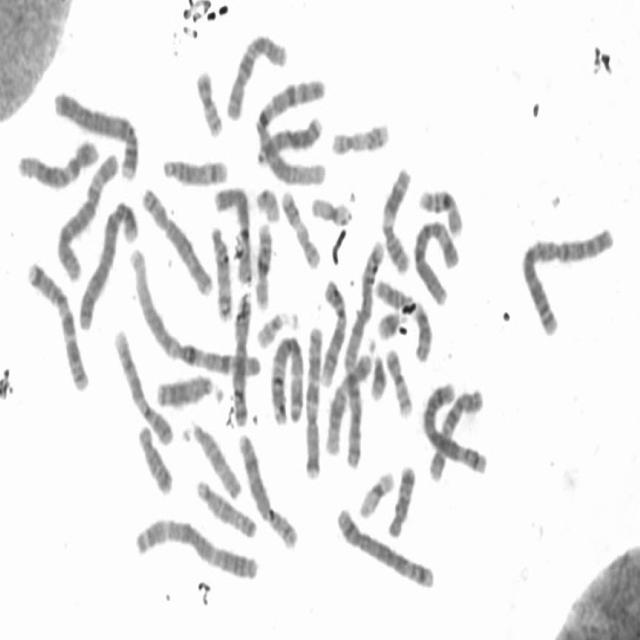A1: (126, 241, 263, 381), (251, 69, 327, 188)
A2: (518, 216, 618, 338), (341, 234, 385, 470)
A3: (131, 510, 260, 583), (266, 328, 306, 426)
B4: (49, 83, 141, 182), (76, 192, 140, 332)
B5: (332, 501, 437, 592), (422, 371, 491, 472)
C10: (222, 26, 289, 122), (423, 381, 486, 483)
C11: (372, 274, 434, 364), (377, 160, 415, 276)
C12: (322, 346, 372, 456), (15, 132, 102, 190)
C6: (52, 146, 119, 282), (410, 213, 462, 306)
C7: (22, 254, 92, 394), (302, 317, 326, 482)
C8: (138, 180, 215, 299), (235, 426, 300, 551)
C9: (110, 322, 174, 448), (317, 272, 349, 388)
D13: (253, 110, 325, 166), (152, 368, 226, 410)
D14: (206, 219, 234, 323), (159, 150, 231, 188)
D15: (180, 414, 244, 502), (193, 473, 259, 541)
E16: (415, 181, 466, 238), (251, 215, 275, 311)
E17: (278, 183, 322, 270), (327, 115, 391, 157)
E18: (134, 418, 175, 498), (385, 458, 418, 539)
F19: (355, 464, 396, 520), (308, 190, 354, 228)
F20: (192, 62, 226, 140), (382, 342, 415, 419)
G21: (365, 338, 388, 402), (374, 303, 403, 341)
G22: (253, 303, 301, 350), (252, 181, 282, 225)
X: (212, 180, 256, 287), (229, 285, 254, 427)
